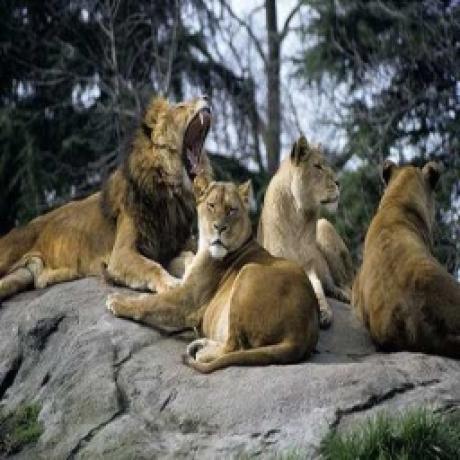Lion: (0, 91, 208, 294), (109, 176, 323, 371), (360, 155, 460, 355), (258, 135, 350, 328)
